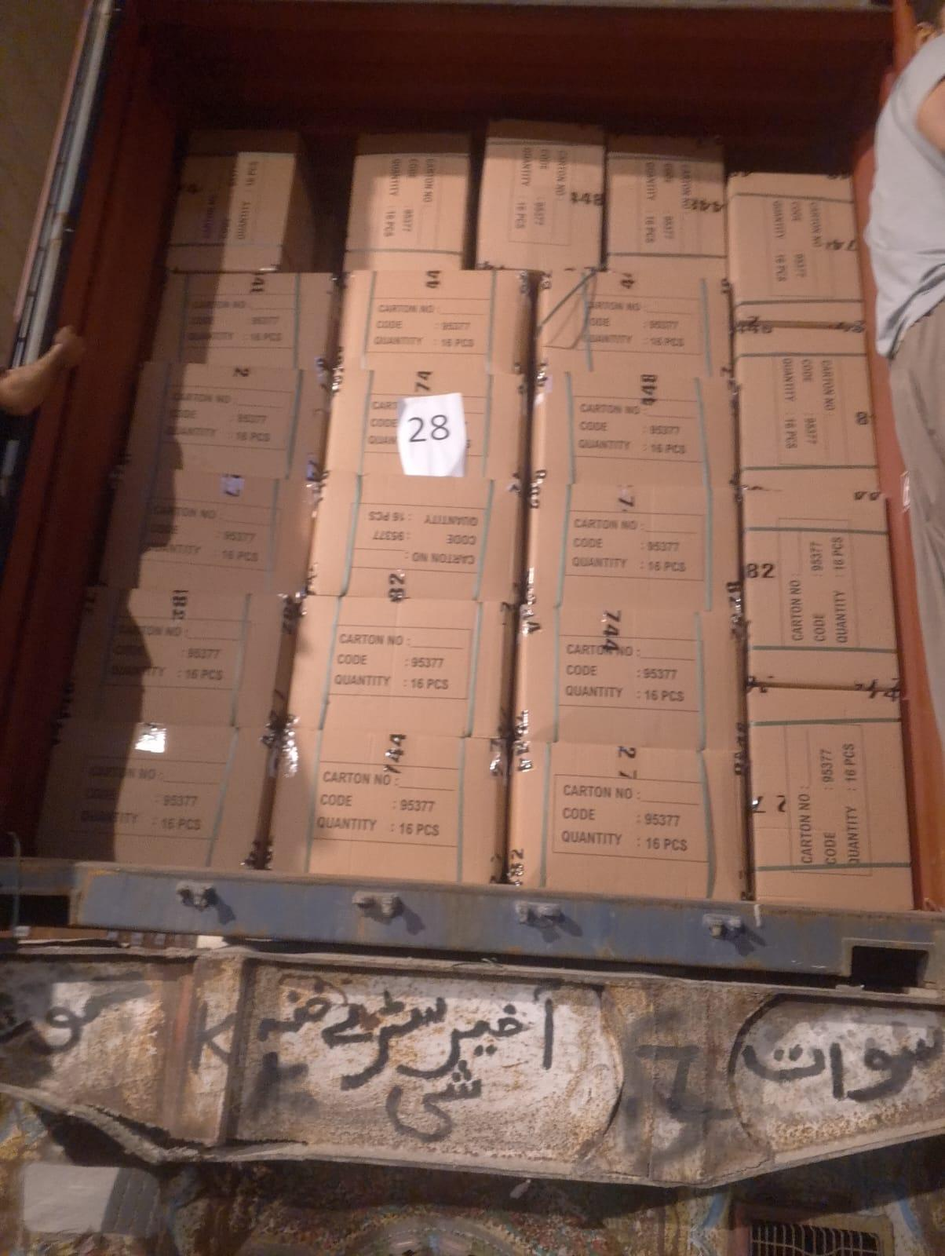carton: (266, 728, 509, 885), (507, 742, 748, 900), (746, 685, 912, 910), (35, 720, 279, 872), (513, 605, 745, 751), (62, 588, 301, 728), (286, 594, 517, 737), (741, 491, 897, 687), (524, 482, 742, 613), (305, 474, 524, 603), (105, 469, 322, 595), (111, 363, 331, 479), (529, 366, 736, 488), (322, 363, 527, 484), (734, 326, 879, 491), (533, 267, 731, 377), (166, 129, 315, 273), (726, 173, 863, 327), (337, 268, 534, 373), (475, 120, 604, 272), (148, 271, 341, 370), (345, 132, 470, 270), (604, 135, 725, 273)
